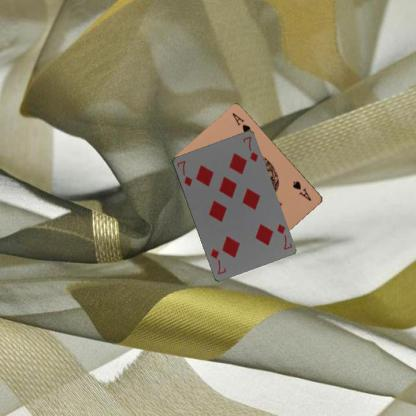7d: (274, 221, 293, 251), (174, 158, 193, 187)
As: (290, 179, 313, 202)
